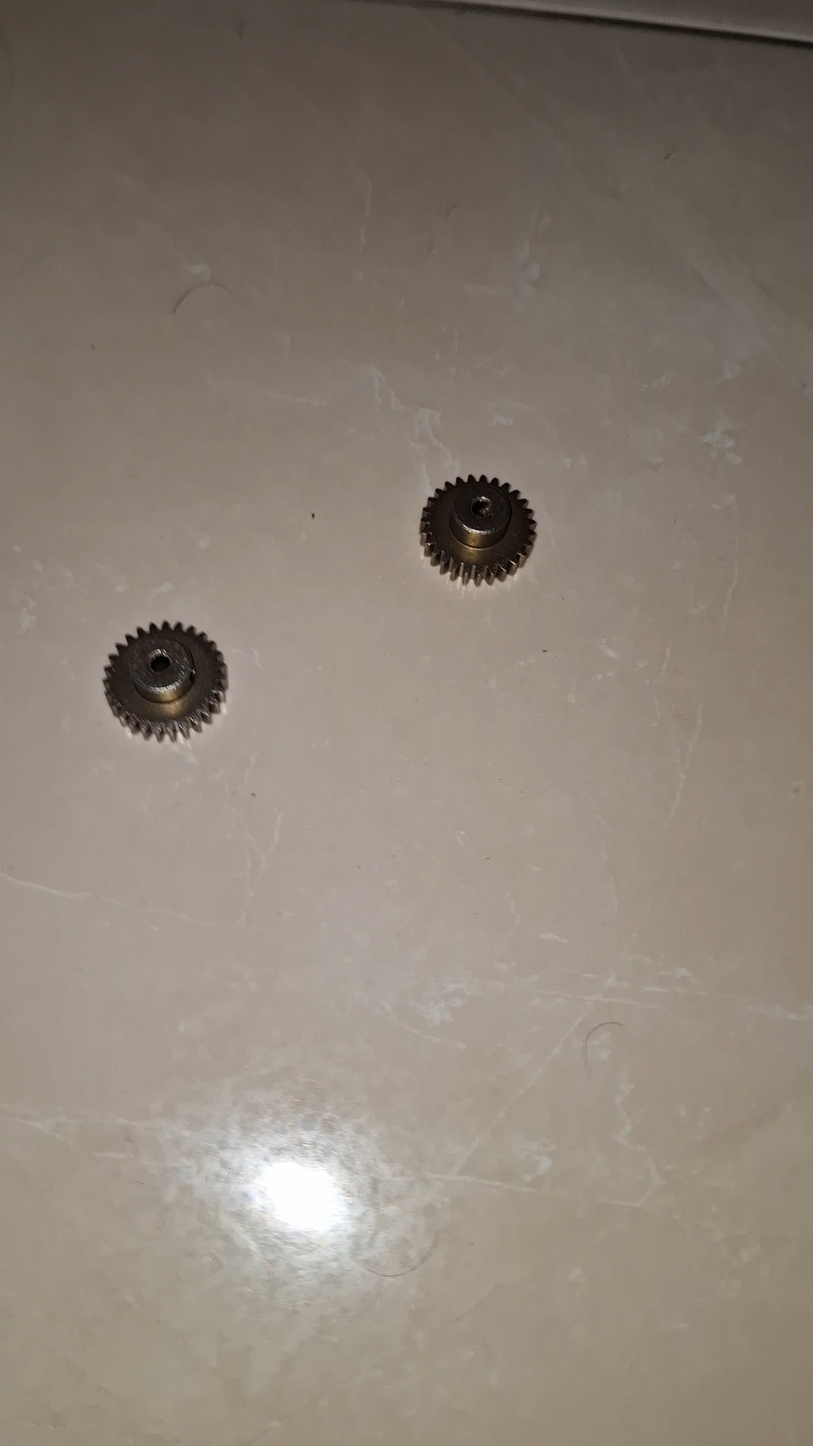spur gear: (104, 622, 227, 740), (420, 475, 536, 584)
